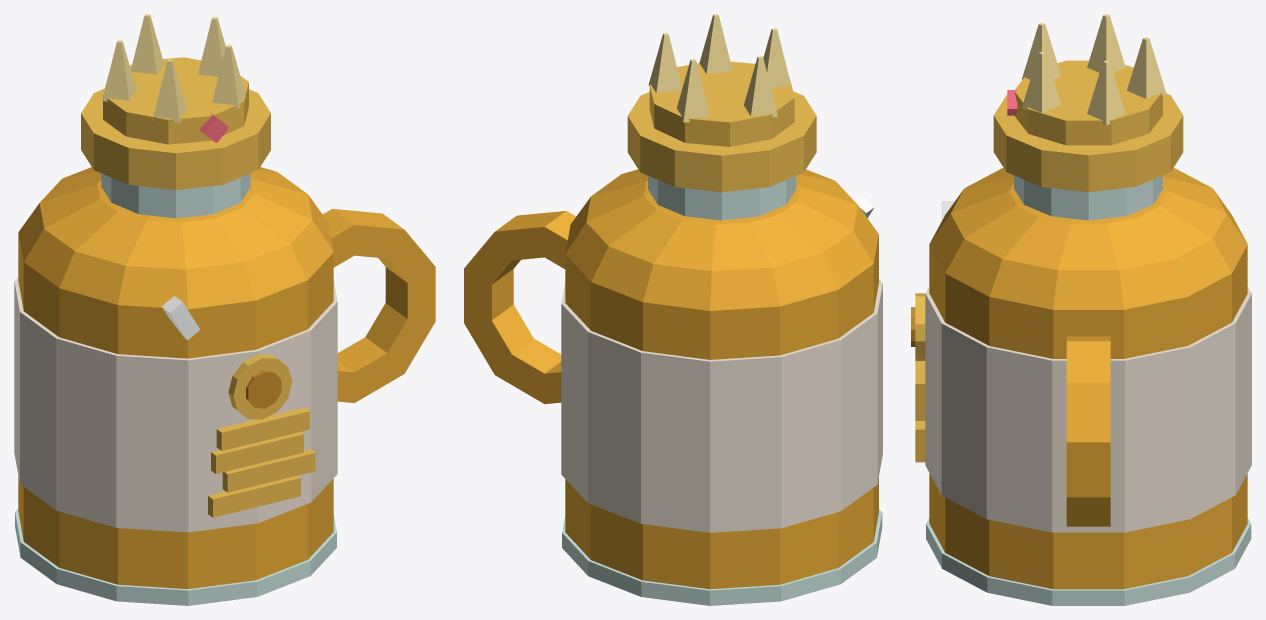
File: CatCafe_Prop_Potion_MegaTip.glb
3 views of the same model, side by side, from view 1: azimuth 30°, elevation 25°; view 2: azimuth 150°, elevation 25°; view 3: azimuth 270°, elevation 25° (orthographic).
Visible parts, largest first — view 1: CatCafe_Prop_Potion_MegaTip; view 2: CatCafe_Prop_Potion_MegaTip; view 3: CatCafe_Prop_Potion_MegaTip.
Boxes of the visible parts, bbox=[...] form: CatCafe_Prop_Potion_MegaTip: bbox=[14, 14, 435, 605]; CatCafe_Prop_Potion_MegaTip: bbox=[464, 14, 882, 605]; CatCafe_Prop_Potion_MegaTip: bbox=[911, 14, 1251, 605].
Bounding box in the file's own units: 1.32 × 1.63 × 1.01.
1 material, 1 textured.
